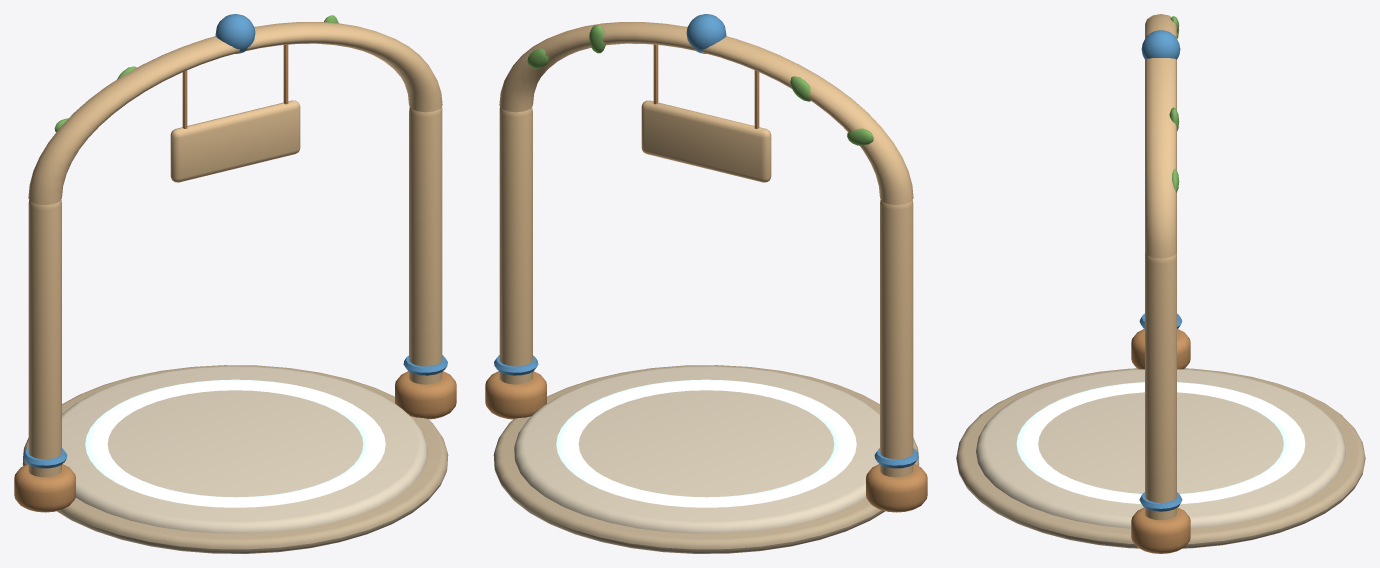
The model's file is entrance_gate.glb.
The picture shows the model from 3 angles, left to right: view 1: azimuth 30°, elevation 25°; view 2: azimuth 150°, elevation 25°; view 3: azimuth 270°, elevation 25°; orthographic projection. The views are drawn at different scales.
Parts seen in each view (by area): view 1: EntranceGate; view 2: EntranceGate; view 3: EntranceGate.
Part boxes in pixels (bbox=[...]): EntranceGate: bbox=[14, 14, 456, 553]; EntranceGate: bbox=[485, 14, 927, 553]; EntranceGate: bbox=[956, 14, 1365, 553].
Size of the model in its own units: 2.24 by 2.22 by 1.9.
